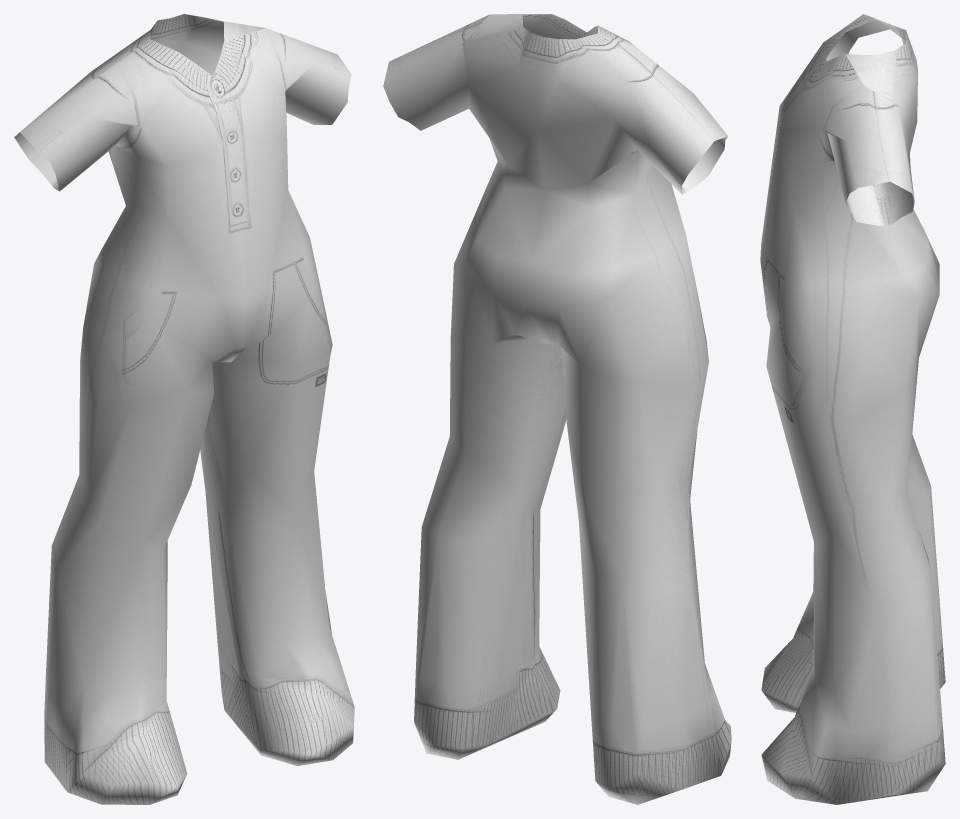
File: KidRomper.glb
The picture shows the model from 3 angles, left to right: view 1: azimuth 30°, elevation 25°; view 2: azimuth 150°, elevation 25°; view 3: azimuth 270°, elevation 25°; orthographic projection. The views are drawn at different scales.
Parts seen in each view (by area): view 1: KidRomper; view 2: KidRomper; view 3: KidRomper.
Part boxes in pixels (left/top/right/bottom): KidRomper: left=14, top=14, right=354, bottom=804; KidRomper: left=383, top=14, right=731, bottom=804; KidRomper: left=760, top=14, right=945, bottom=804.
Size of the model in its own units: 9.15 by 19.9 by 4.71.
1 material, 1 textured.
